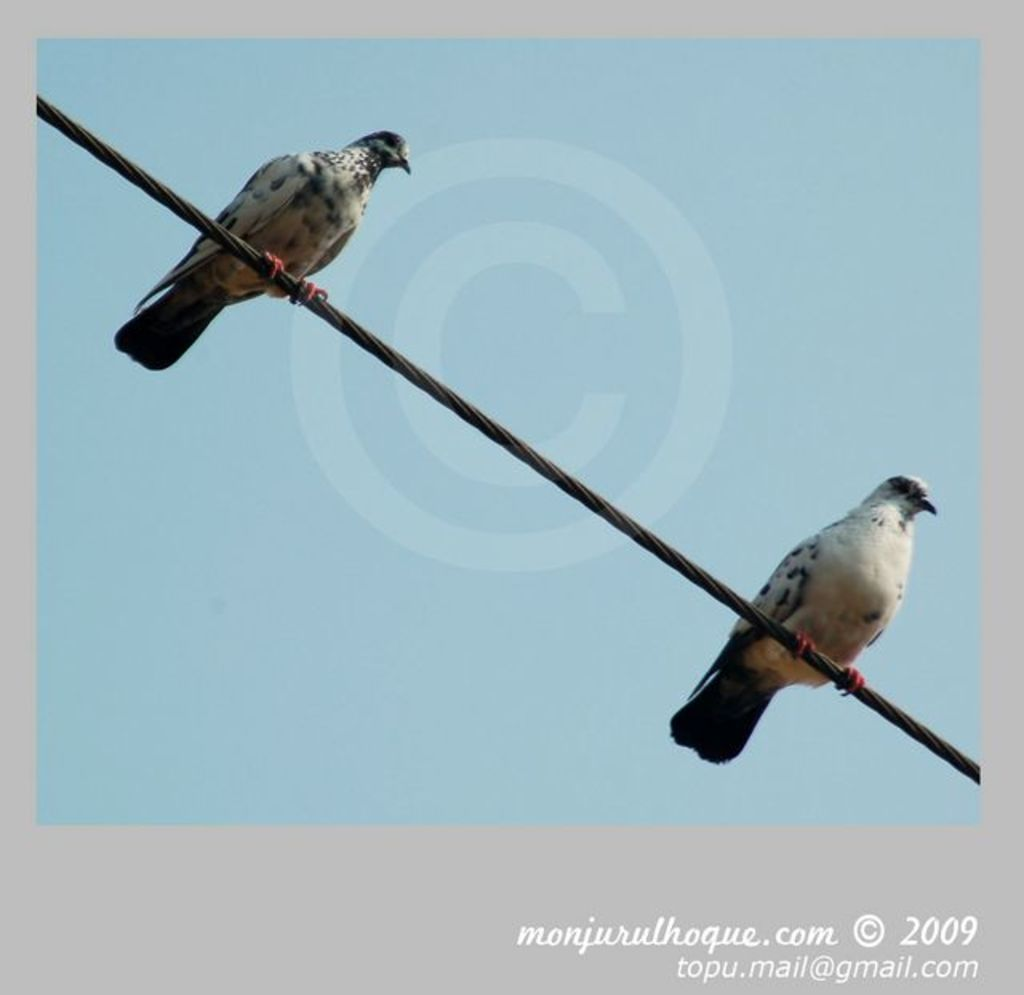person: (211, 127, 412, 304)
